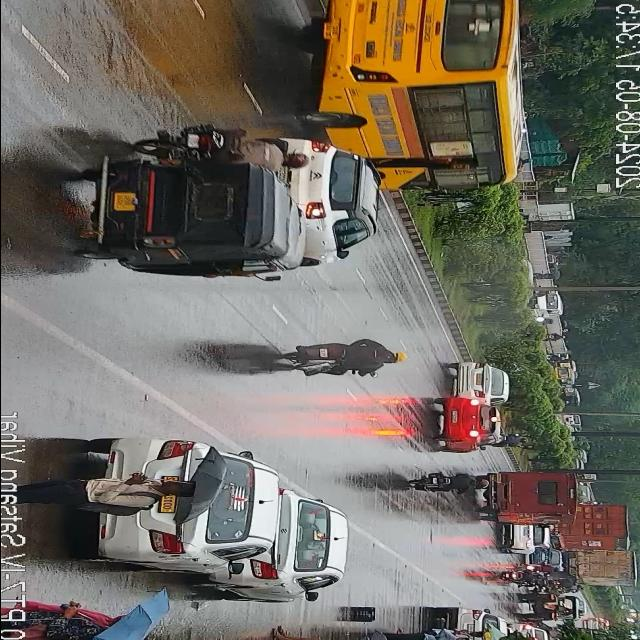2-wheelers: (285, 342, 407, 374), (412, 471, 494, 495), (496, 570, 544, 583), (518, 563, 560, 573), (516, 564, 558, 572), (550, 578, 578, 588)
auto: (472, 464, 578, 525)
bus: (302, 1, 530, 200)
car: (98, 444, 276, 576), (226, 494, 346, 597), (291, 146, 375, 266), (432, 396, 500, 454), (448, 351, 506, 404), (514, 590, 578, 622), (497, 518, 547, 556), (436, 606, 510, 628), (528, 549, 562, 565)
pedestrian: (16, 473, 200, 515), (0, 604, 123, 640), (267, 627, 358, 640), (424, 626, 486, 638), (386, 633, 471, 640)
truck: (66, 141, 301, 277), (552, 502, 636, 585)
